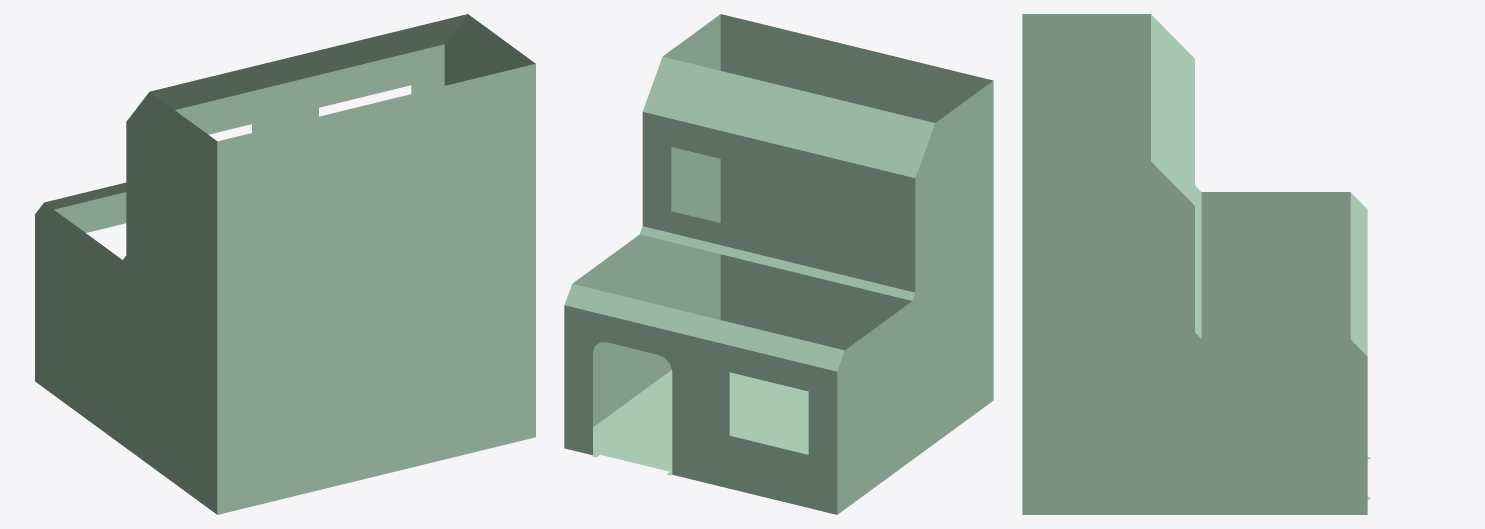
The model's file is Bld_C_low_L1_C.fbx.
3 renders of one model, left to right at view 1: azimuth 30°, elevation 25°; view 2: azimuth 150°, elevation 25°; view 3: azimuth 270°, elevation 25°, orthographic. The views are drawn at different scales.
Visible parts, largest first — view 1: Bld_C_low_L1_C_LOD0; view 2: Bld_C_low_L1_C_LOD0; view 3: Bld_C_low_L1_C_LOD0.
Boxes of the visible parts, left/top/right/bottom form: Bld_C_low_L1_C_LOD0: left=35, top=14, right=535, bottom=514; Bld_C_low_L1_C_LOD0: left=564, top=14, right=993, bottom=514; Bld_C_low_L1_C_LOD0: left=1022, top=14, right=1370, bottom=514.
Size of what is drawn, in the model's own units: 514 by 561 by 644.
Materials: 1 (1 with a texture image).
